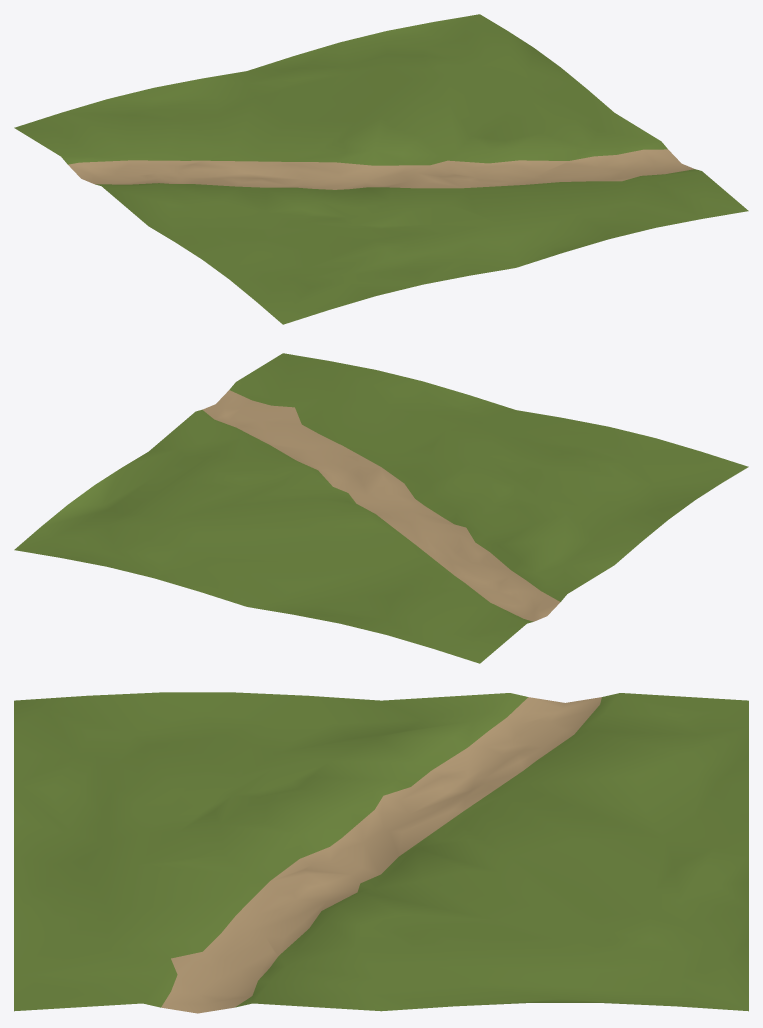
Rendered from rpgpp_ag_terrain_path_10_20x20m.fbx.
The picture shows the model from 3 angles, top to bottom: view 1: azimuth 30°, elevation 25°; view 2: azimuth 150°, elevation 25°; view 3: azimuth 270°, elevation 25°; orthographic projection. The views are drawn at different scales.
Parts seen in each view (by area): view 1: rpgpp_ag_terrain_path_10_20x20m; view 2: rpgpp_ag_terrain_path_10_20x20m; view 3: rpgpp_ag_terrain_path_10_20x20m.
Boxes of the visible parts, bbox=[...] form: rpgpp_ag_terrain_path_10_20x20m: bbox=[14, 14, 748, 324]; rpgpp_ag_terrain_path_10_20x20m: bbox=[14, 353, 748, 663]; rpgpp_ag_terrain_path_10_20x20m: bbox=[14, 692, 748, 1013].
Bounding box in the file's own units: 20 × 0.4911 × 20.
